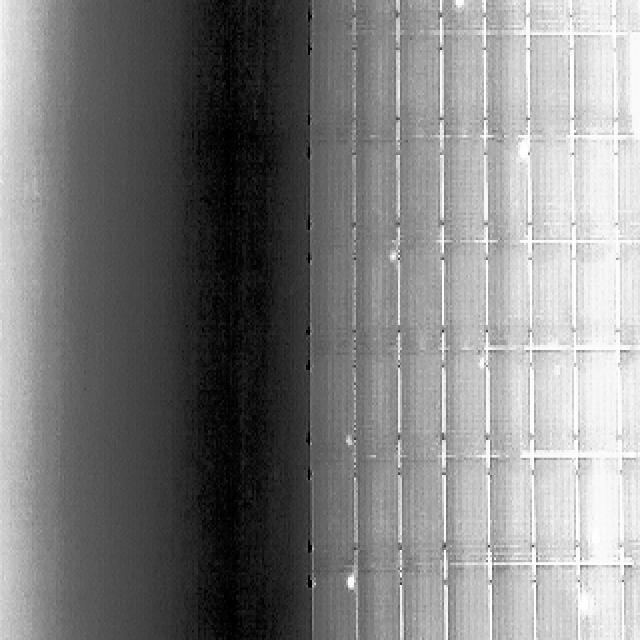Hotspots: (581, 529, 613, 562), (577, 580, 601, 611), (509, 141, 527, 165), (338, 430, 355, 454), (337, 570, 356, 589), (386, 248, 399, 266), (451, 0, 469, 10)
PV-modules: (532, 242, 584, 351), (352, 21, 398, 139), (312, 21, 356, 140), (399, 241, 445, 354), (481, 352, 528, 462), (359, 464, 405, 575), (352, 242, 398, 353), (357, 355, 404, 463), (400, 458, 446, 568), (446, 458, 492, 567), (441, 352, 487, 461), (311, 244, 356, 355), (532, 353, 578, 461), (444, 242, 489, 352), (313, 460, 358, 570), (352, 140, 398, 247), (400, 353, 445, 461), (488, 456, 533, 564), (573, 353, 618, 460), (439, 29, 483, 138), (398, 27, 441, 138), (486, 242, 531, 348), (483, 32, 528, 138), (574, 453, 618, 561), (443, 138, 488, 243), (398, 136, 443, 241), (570, 245, 614, 352), (534, 453, 578, 560), (529, 139, 574, 243), (311, 356, 354, 464), (570, 136, 615, 239), (312, 142, 356, 247), (486, 139, 529, 244), (570, 34, 613, 138), (530, 34, 572, 138), (488, 562, 534, 640), (446, 562, 492, 640), (536, 560, 580, 640), (352, 567, 400, 640), (400, 567, 448, 640), (580, 565, 626, 640), (312, 570, 358, 640), (616, 240, 640, 348), (616, 138, 640, 242), (616, 33, 640, 135), (618, 350, 640, 458), (620, 457, 640, 565), (620, 562, 640, 640), (529, 0, 574, 33), (568, 0, 610, 34), (484, 0, 527, 31), (440, 0, 484, 30), (398, 0, 440, 30), (352, 0, 400, 25), (614, 0, 640, 32)
